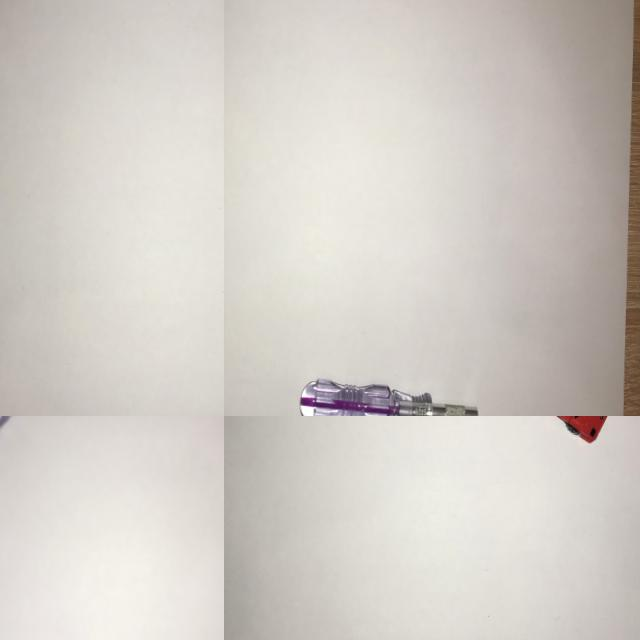car: (505, 416, 620, 447)
screwdriver: (288, 372, 486, 416)
